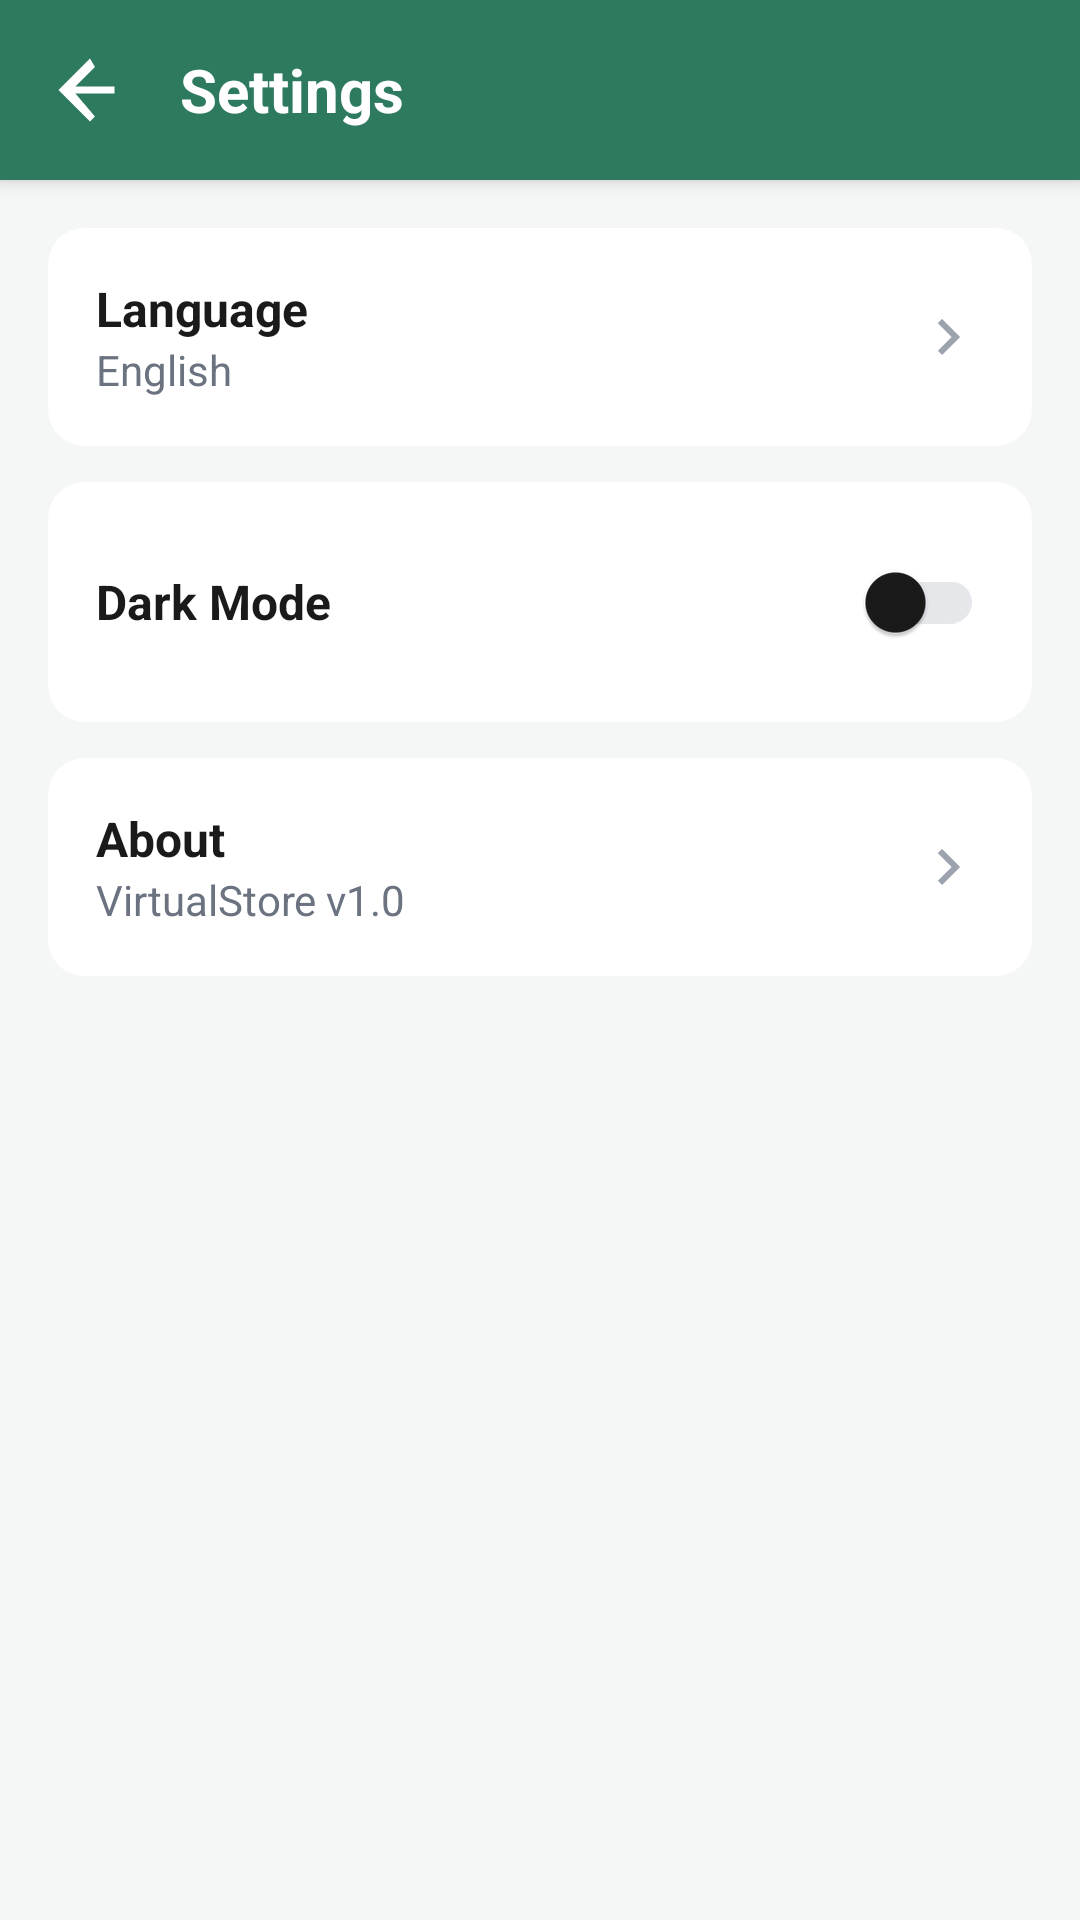

Named icons in this screenshot (1080x1920) and their bounding boxes, (x1, y1, x2, y2):
Back: (58, 58, 115, 122)
chevron right: (938, 319, 960, 355), (938, 849, 960, 885)
